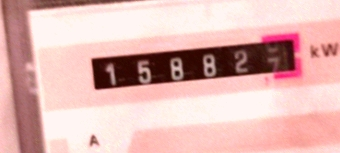1: (101, 62, 117, 88)
2: (230, 49, 247, 74)
5: (133, 58, 151, 85)
7: (264, 54, 280, 74)
8: (166, 56, 184, 83), (199, 52, 216, 79)
screen: (73, 25, 311, 107)
